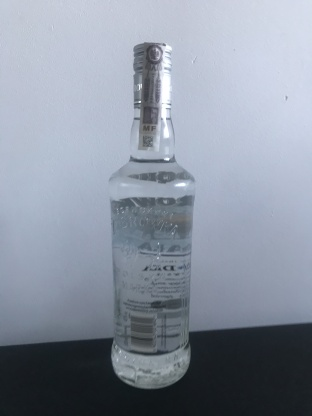nakretka: (130, 39, 174, 112)
